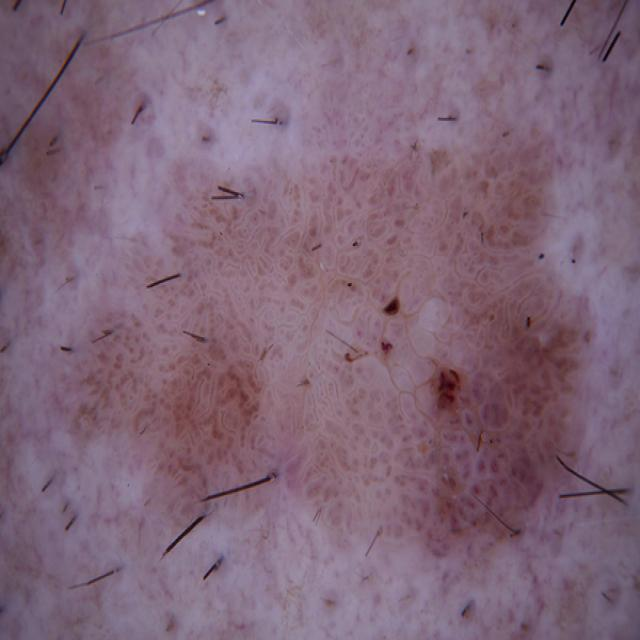Skin-Cancer Pigmented benign keratosis: (1, 6, 640, 638)
